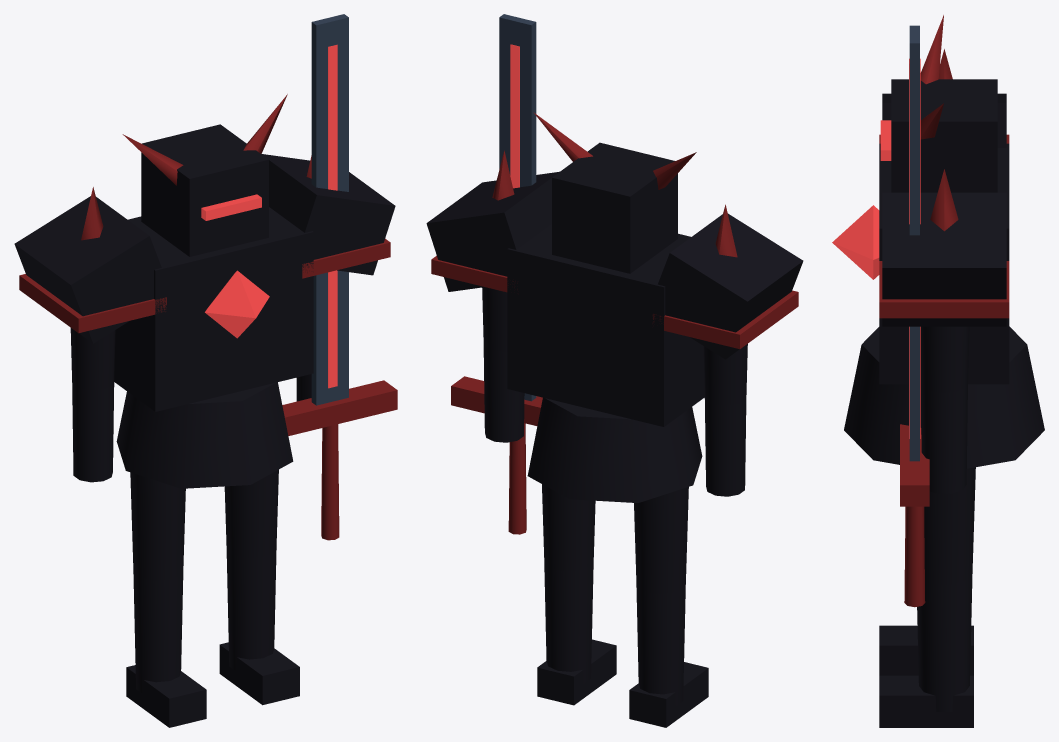
The model's file is blood_knight.glb.
3 renders of one model, left to right at view 1: azimuth 30°, elevation 25°; view 2: azimuth 150°, elevation 25°; view 3: azimuth 270°, elevation 25°, orthographic. The views are drawn at different scales.
Size of the model in its own units: 1.75 by 3.27 by 0.8784.
